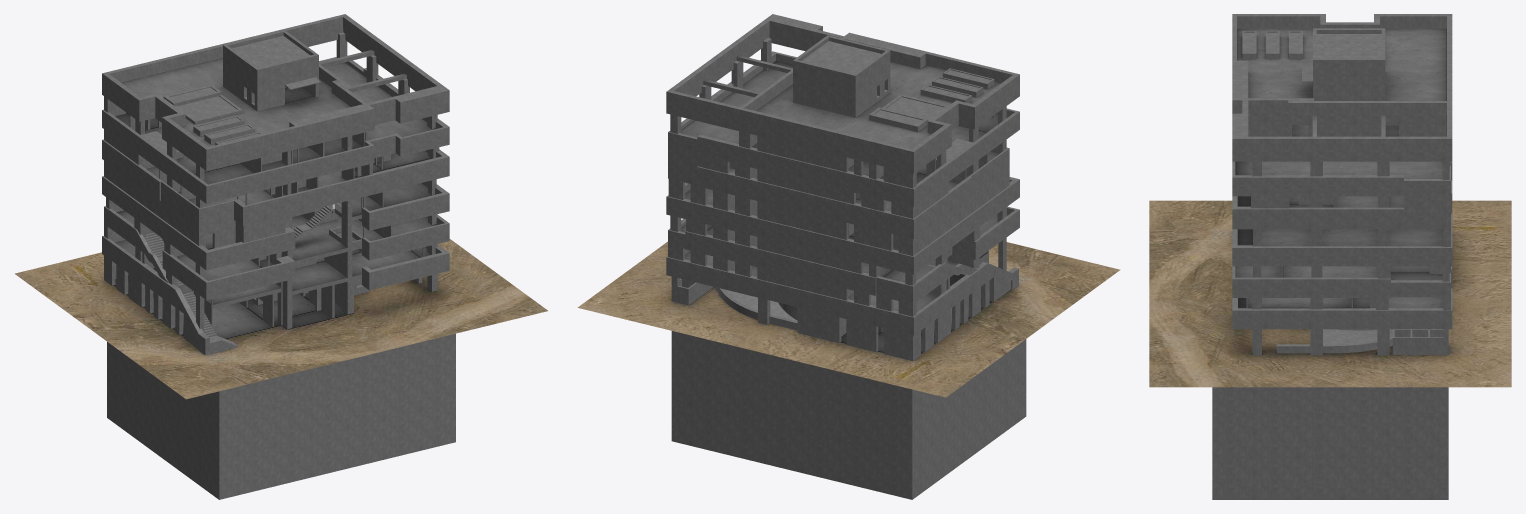
File: building.FBX
The picture shows the model from 3 angles, left to right: view 1: azimuth 30°, elevation 25°; view 2: azimuth 150°, elevation 25°; view 3: azimuth 270°, elevation 25°; orthographic projection. The views are drawn at different scales.
Parts seen in each view (by area): view 1: 1F_지면, 7F_벽, B4_벽, 4F_벽, 1F_바닥, 6F_벽, 5F_벽, B3_벽, B4_슬라브, 1F_벽, 3F_벽, 7F_바닥 (+23 smaller); view 2: 1F_지면, 7F_벽, 4F_벽, B4_벽, B4_슬라브, 6F_벽, 1F_벽, 5F_벽, 2F_벽, 3F_벽, B3_벽, 7F_바닥 (+19 smaller); view 3: 1F_지면, 7F_벽, B4_벽, 7F_바닥, 6F_벽, 5F_벽, B2_벽, B4_슬라브, 4F_벽, B3_벽, 2F_벽, 1F_바닥 (+23 smaller).
Boxes of the visible parts, x1,y1,x2,y2 form: 1F_지면: [15, 239, 547, 399]; 7F_벽: [102, 14, 449, 160]; B4_벽: [110, 366, 450, 492]; 4F_벽: [102, 151, 449, 259]; 1F_바닥: [114, 276, 455, 362]; 6F_벽: [102, 33, 449, 193]; 5F_벽: [102, 121, 449, 216]; B3_벽: [109, 344, 451, 440]; B4_슬라브: [107, 360, 455, 499]; 1F_벽: [102, 247, 449, 355]; 3F_벽: [102, 187, 449, 289]; 7F_바닥: [121, 30, 406, 146]; 1F_지면: [577, 241, 1120, 397]; 7F_벽: [666, 14, 1019, 163]; 4F_벽: [666, 159, 1019, 263]; B4_벽: [680, 365, 1021, 463]; B4_슬라브: [671, 358, 1026, 499]; 6F_벽: [666, 36, 1019, 196]; 1F_벽: [666, 252, 1018, 360]; 5F_벽: [668, 123, 1019, 226]; 2F_벽: [666, 221, 1019, 324]; 3F_벽: [666, 190, 1019, 293]; B3_벽: [680, 343, 1021, 438]; 7F_바닥: [704, 55, 1000, 148]; 1F_지면: [1149, 200, 1511, 387]; 7F_벽: [1232, 14, 1452, 151]; B4_벽: [1223, 442, 1443, 493]; 7F_바닥: [1237, 28, 1446, 136]; 6F_벽: [1232, 116, 1452, 184]; 5F_벽: [1232, 173, 1452, 216]; B2_벽: [1223, 389, 1443, 412]; B4_슬라브: [1212, 438, 1448, 499]; 4F_벽: [1232, 205, 1452, 254]; B3_벽: [1223, 416, 1443, 438]; 2F_벽: [1232, 281, 1452, 317]; 1F_바닥: [1212, 233, 1392, 354].
Size of the model in its own units: 496 by 489 by 407.
12 materials, 12 textured.
